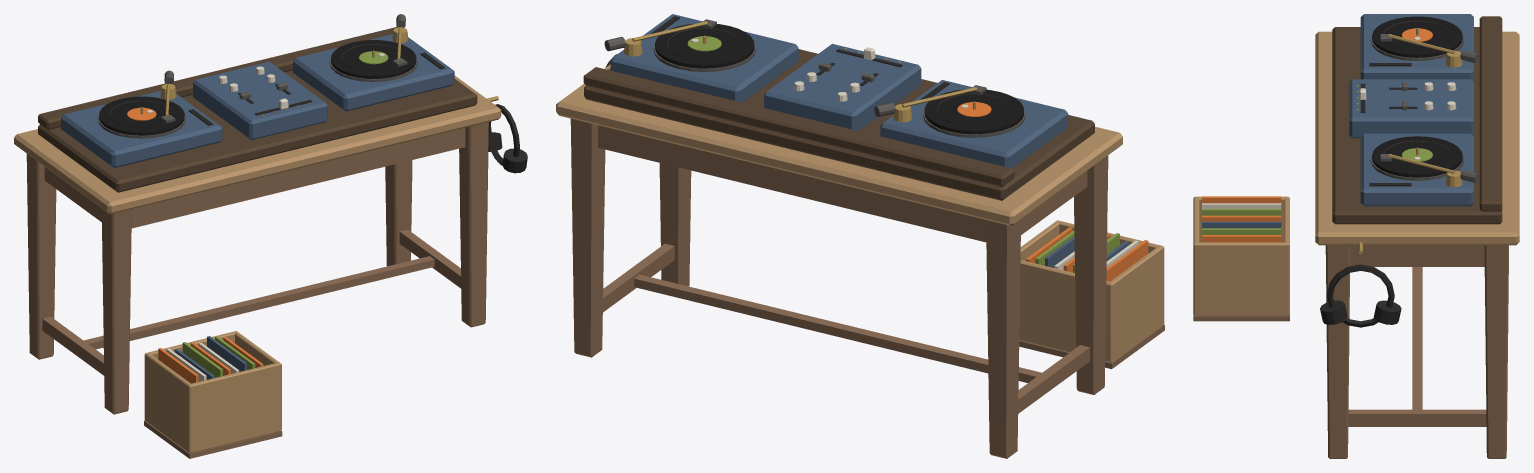
The picture shows the model from 3 angles, left to right: view 1: azimuth 30°, elevation 25°; view 2: azimuth 150°, elevation 25°; view 3: azimuth 270°, elevation 25°; orthographic projection. The views are drawn at different scales.
Parts seen in each view (by area): view 1: body, crate, platter_0, platter_1; view 2: body, crate, platter_1, platter_0; view 3: body, crate, platter_1, platter_0.
Boxes of the visible parts, left/top/right/bottom form: body: left=14, top=14, right=527, bottom=414; crate: left=144, top=331, right=282, bottom=458; platter_0: left=99, top=96, right=184, bottom=135; platter_1: left=331, top=40, right=416, bottom=78; body: left=556, top=14, right=1122, bottom=458; crate: left=1019, top=220, right=1164, bottom=369; platter_1: left=655, top=23, right=754, bottom=68; platter_0: left=924, top=89, right=1023, bottom=134; body: left=1315, top=14, right=1519, bottom=458; crate: left=1193, top=196, right=1289, bottom=321; platter_1: left=1372, top=136, right=1462, bottom=177; platter_0: left=1372, top=16, right=1462, bottom=57.
Size of the model in its own units: 1.83 by 1.08 by 1.15.
